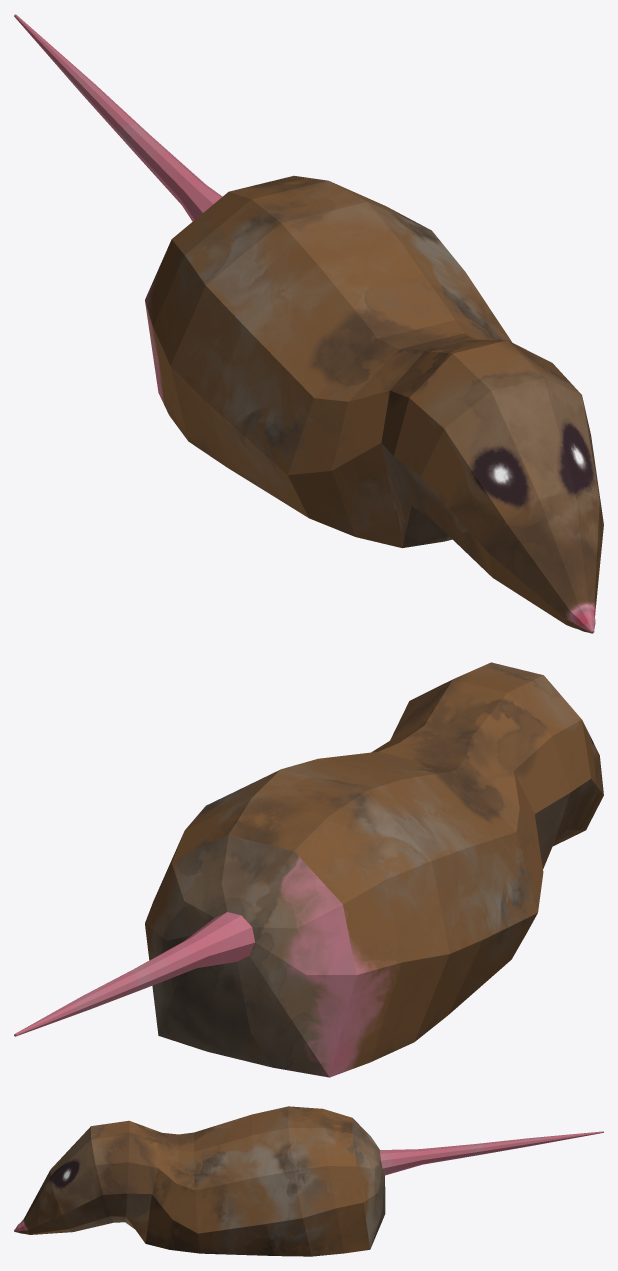
Rendered from LowPolyRat_1.fbx.
3 renders of one model, top to bottom at view 1: azimuth 30°, elevation 25°; view 2: azimuth 150°, elevation 25°; view 3: azimuth 270°, elevation 25°, orthographic. The views are drawn at different scales.
Visible parts, largest first — view 1: Body_geo; view 2: Body_geo; view 3: Body_geo.
Boxes of the visible parts, x1,y1,x2,y2 form: Body_geo: (14, 14, 603, 633); Body_geo: (14, 662, 603, 1077); Body_geo: (14, 1106, 603, 1256).
Bounding box in the file's own units: 11.87 × 9.29 × 42.55.
Materials: 1 (1 with a texture image).
